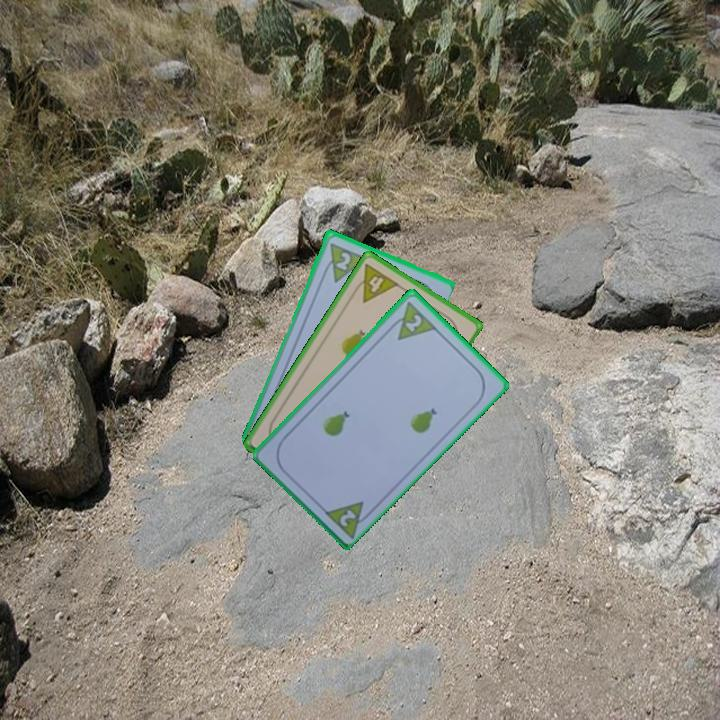2p: (385, 297, 439, 343), (336, 505, 360, 529), (332, 248, 354, 273)
4p: (348, 260, 402, 305)
